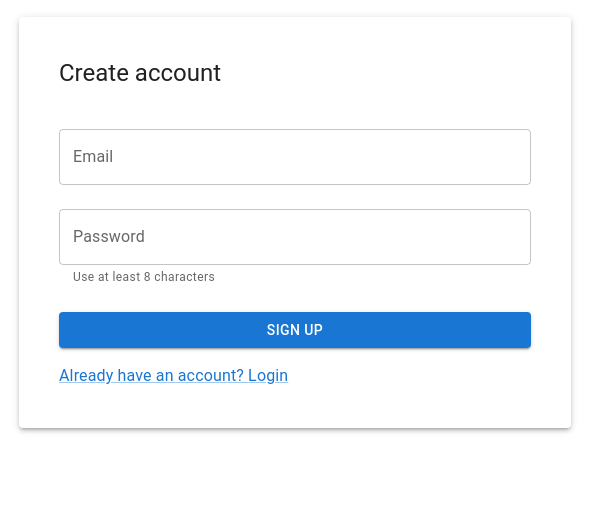
Test: shows backend validation error when password is too short
Type "new@example.com" into the field labelled "Email" at (295, 157), box [59,129,531,185]
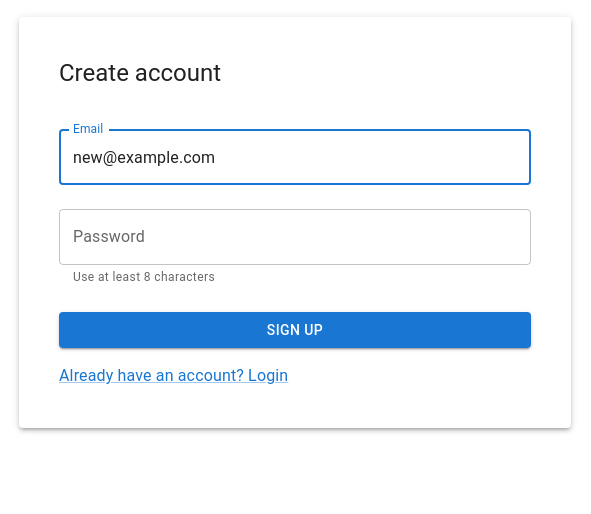
Type "short" into the password field labelled "Password" at (295, 237), box [59,209,531,265]
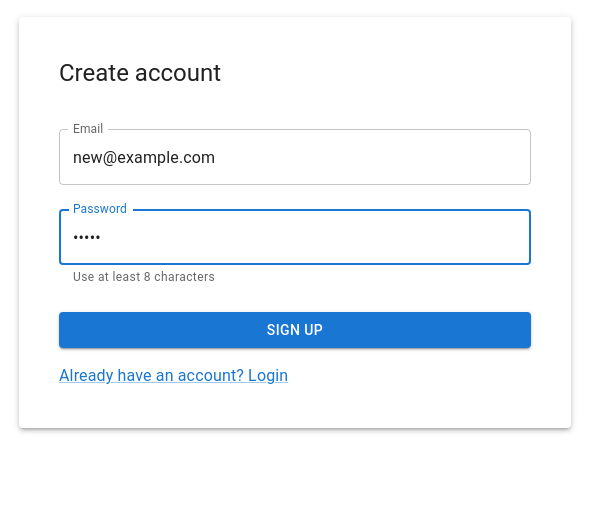
Click the button "Sign up" at (295, 330), box [59,312,531,348]
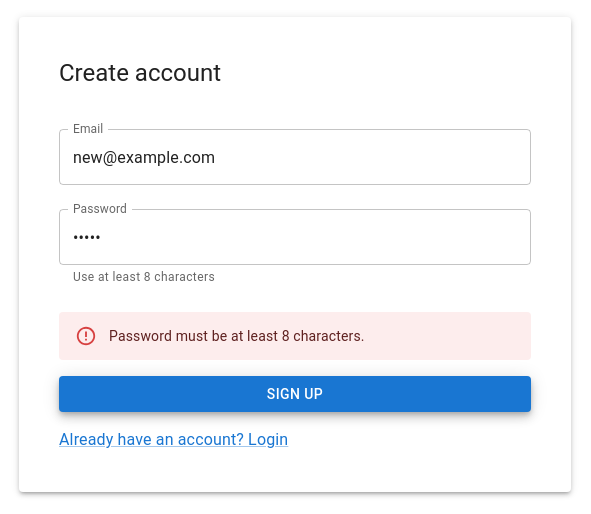
Check: the text "Password must be at least 8 characters." is shown, box [109,328,365,344]
